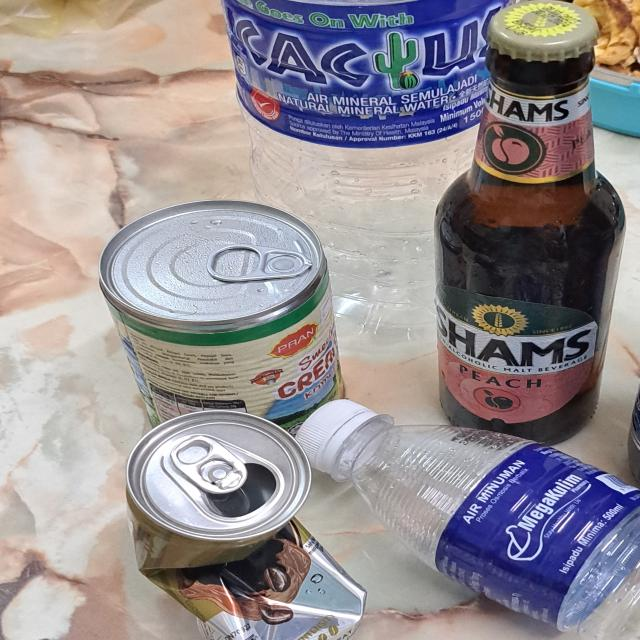can: (96, 200, 349, 438), (122, 408, 366, 640)
glass bottle: (430, 0, 623, 444)
plastic bottle: (218, 0, 505, 353), (353, 422, 640, 640)
plastic bottle cap: (292, 398, 373, 474)
pop tab: (168, 434, 247, 494), (213, 245, 312, 281)
